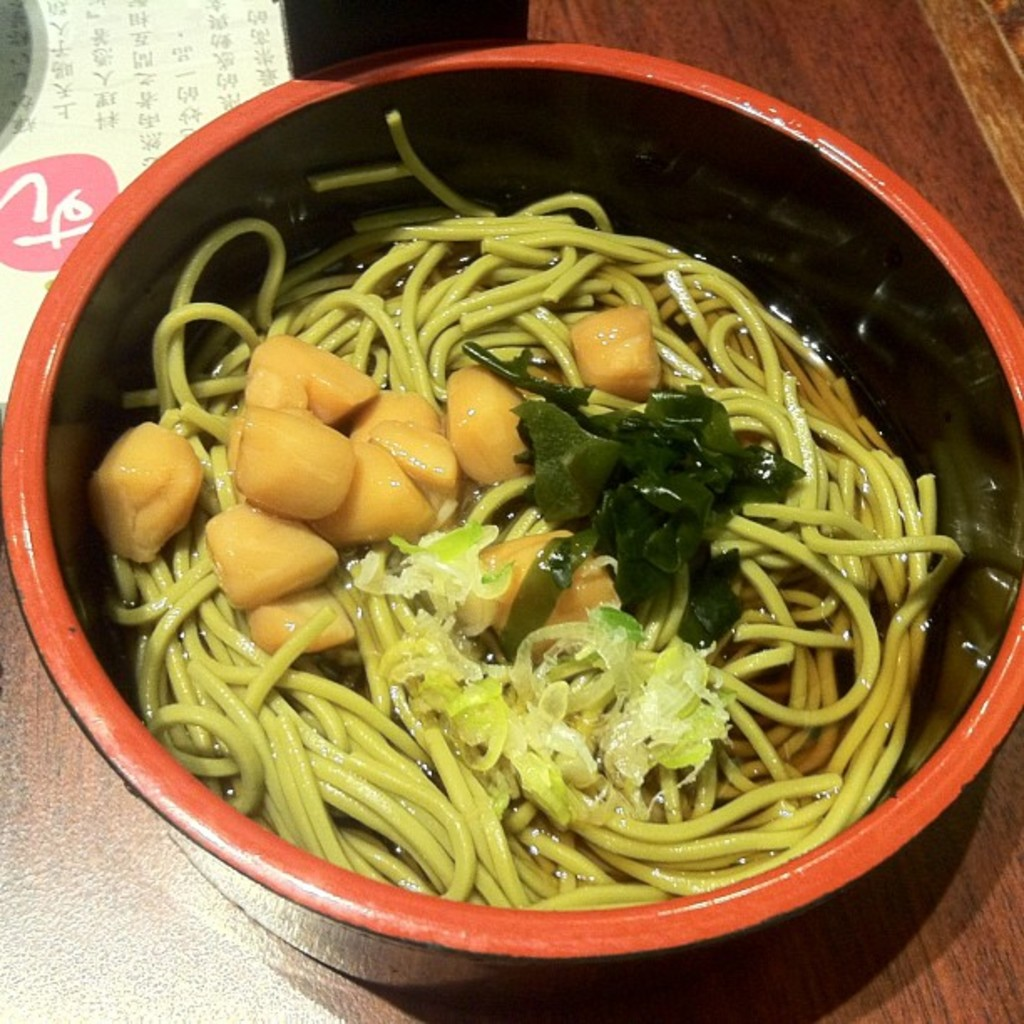pasta: (104, 109, 965, 904)
